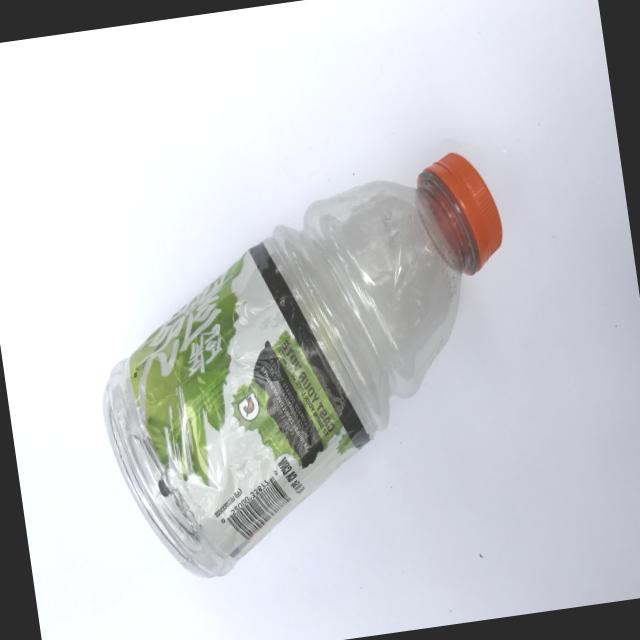Plastic: (44, 56, 588, 640)
